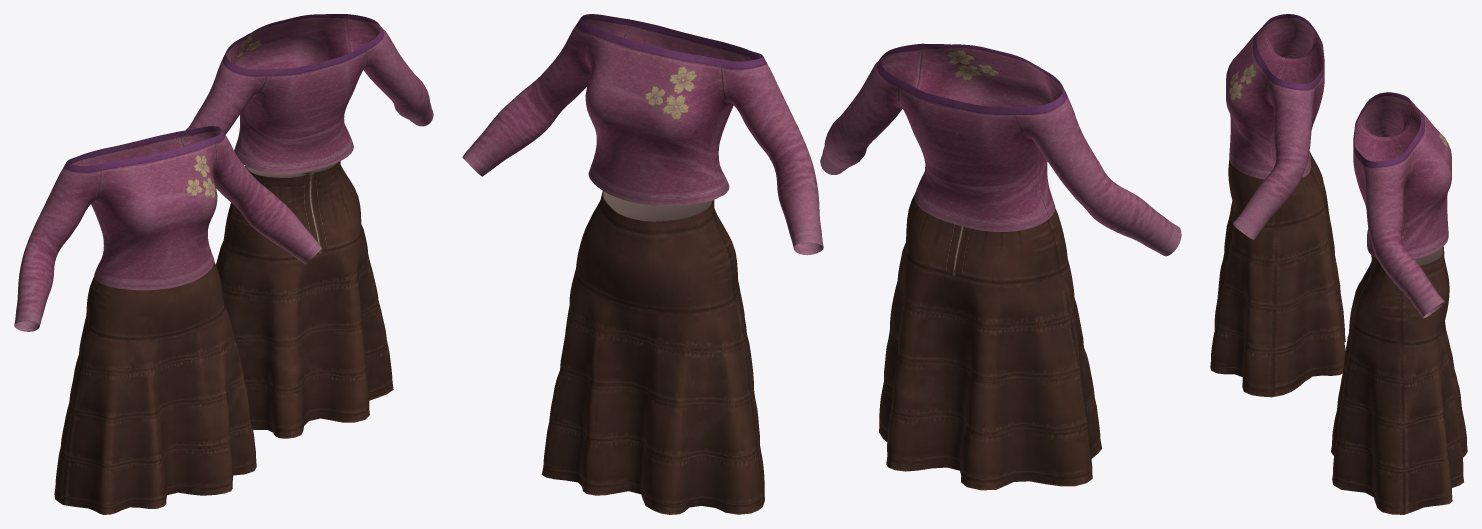
The model's file is f_knitskirt.glb.
The picture shows the model from 3 angles, left to right: view 1: azimuth 30°, elevation 25°; view 2: azimuth 150°, elevation 25°; view 3: azimuth 270°, elevation 25°; orthographic projection. The views are drawn at different scales.
Parts seen in each view (by area): view 1: Object_2, Object_3; view 2: Object_2, Object_3; view 3: Object_2, Object_3.
Part boxes in pixels (box(x1,y1,x2,y2)): Object_2: box(54, 161, 393, 514); Object_3: box(14, 14, 433, 331); Object_2: box(541, 191, 1102, 514); Object_3: box(462, 14, 1181, 256); Object_2: box(1210, 152, 1467, 514); Object_3: box(1226, 14, 1451, 318).
Size of the model in its own units: 1.45 by 1.02 by 0.6749.
2 materials, 2 textured.
